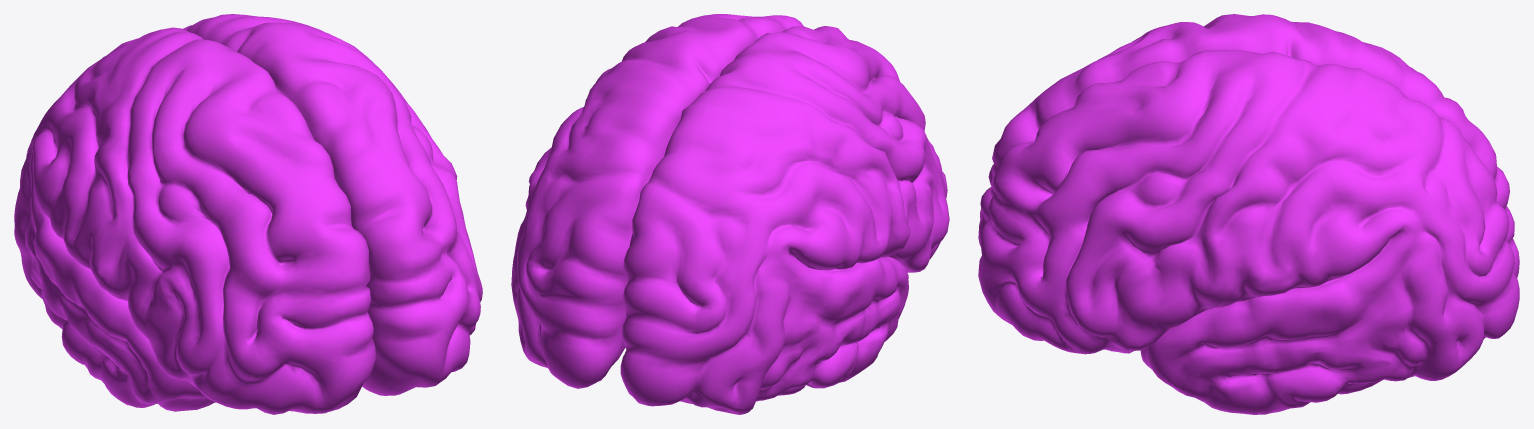
File: brain11.glb
3 renders of one model, left to right at view 1: azimuth 30°, elevation 25°; view 2: azimuth 150°, elevation 25°; view 3: azimuth 270°, elevation 25°, orthographic. The views are drawn at different scales.
Parts seen in each view (by area): view 1: V1_1:jianmian_03:Group1; view 2: V1_1:jianmian_03:Group1; view 3: V1_1:jianmian_03:Group1.
Part boxes in pixels (<box>): V1_1:jianmian_03:Group1: <box>14,14,482,414</box>; V1_1:jianmian_03:Group1: <box>511,14,949,414</box>; V1_1:jianmian_03:Group1: <box>978,14,1519,414</box>.
Size of the model in its own units: 1.62 by 1.49 by 2.29.
